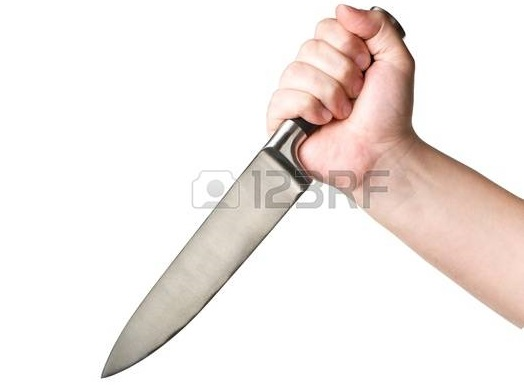knife: (95, 49, 373, 382)
